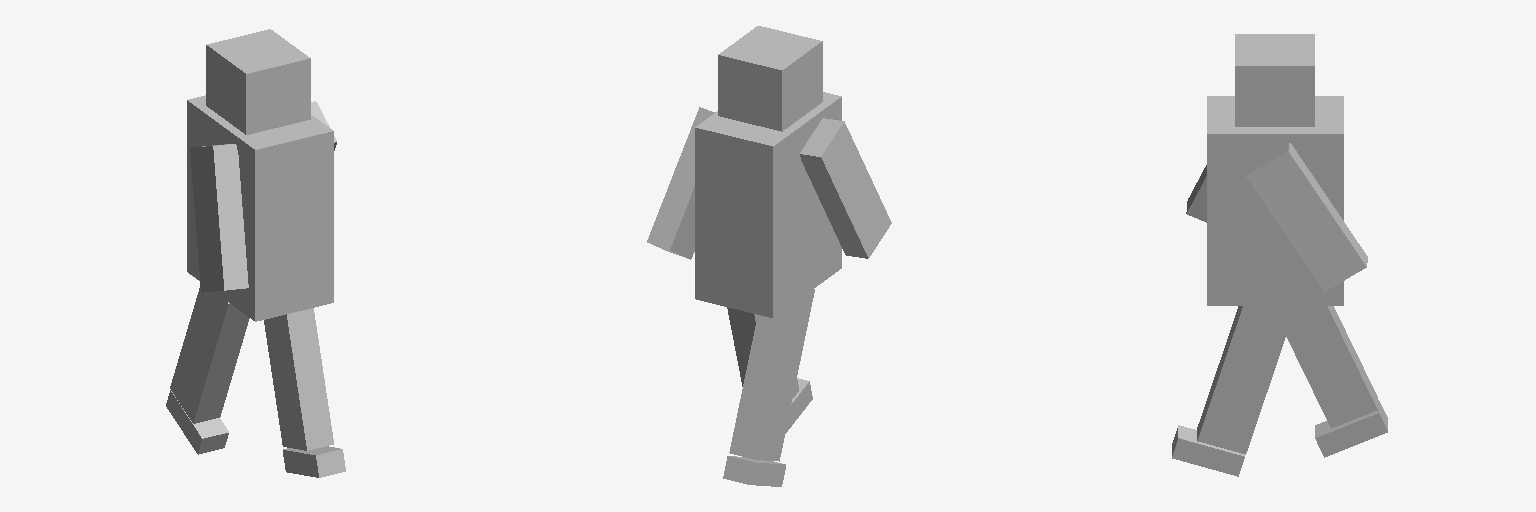
The model's file is man1.obj.
3 renders of one model, left to right at view 1: azimuth 30°, elevation 25°; view 2: azimuth 150°, elevation 25°; view 3: azimuth 270°, elevation 25°, orthographic.
Visible parts, largest first — view 1: body; view 2: body; view 3: body.
Boxes of the visible parts, x1=… form: body: x1=166, y1=29, x2=345, y2=477; body: x1=647, y1=26, x2=891, y2=486; body: x1=1172, y1=34, x2=1387, y2=476.
Size of the model in its own units: 20.64 by 52.27 by 24.89.